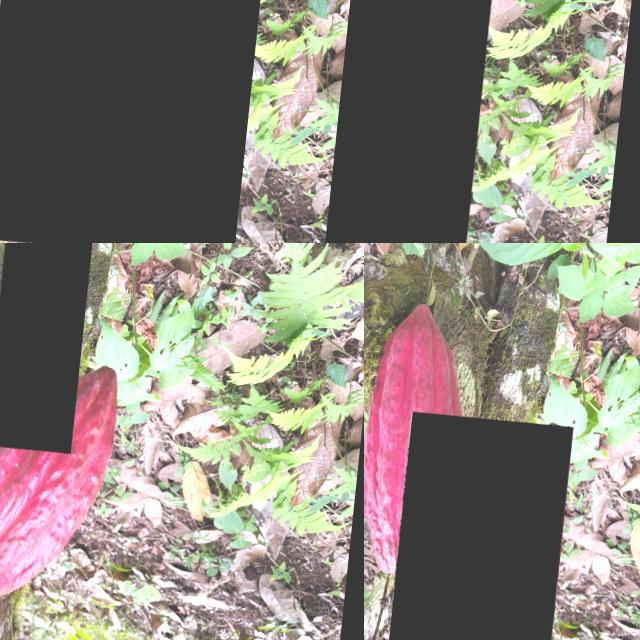Sana: (0, 0, 281, 243), (397, 406, 578, 640), (364, 0, 509, 243), (364, 290, 476, 579), (0, 243, 100, 446)
